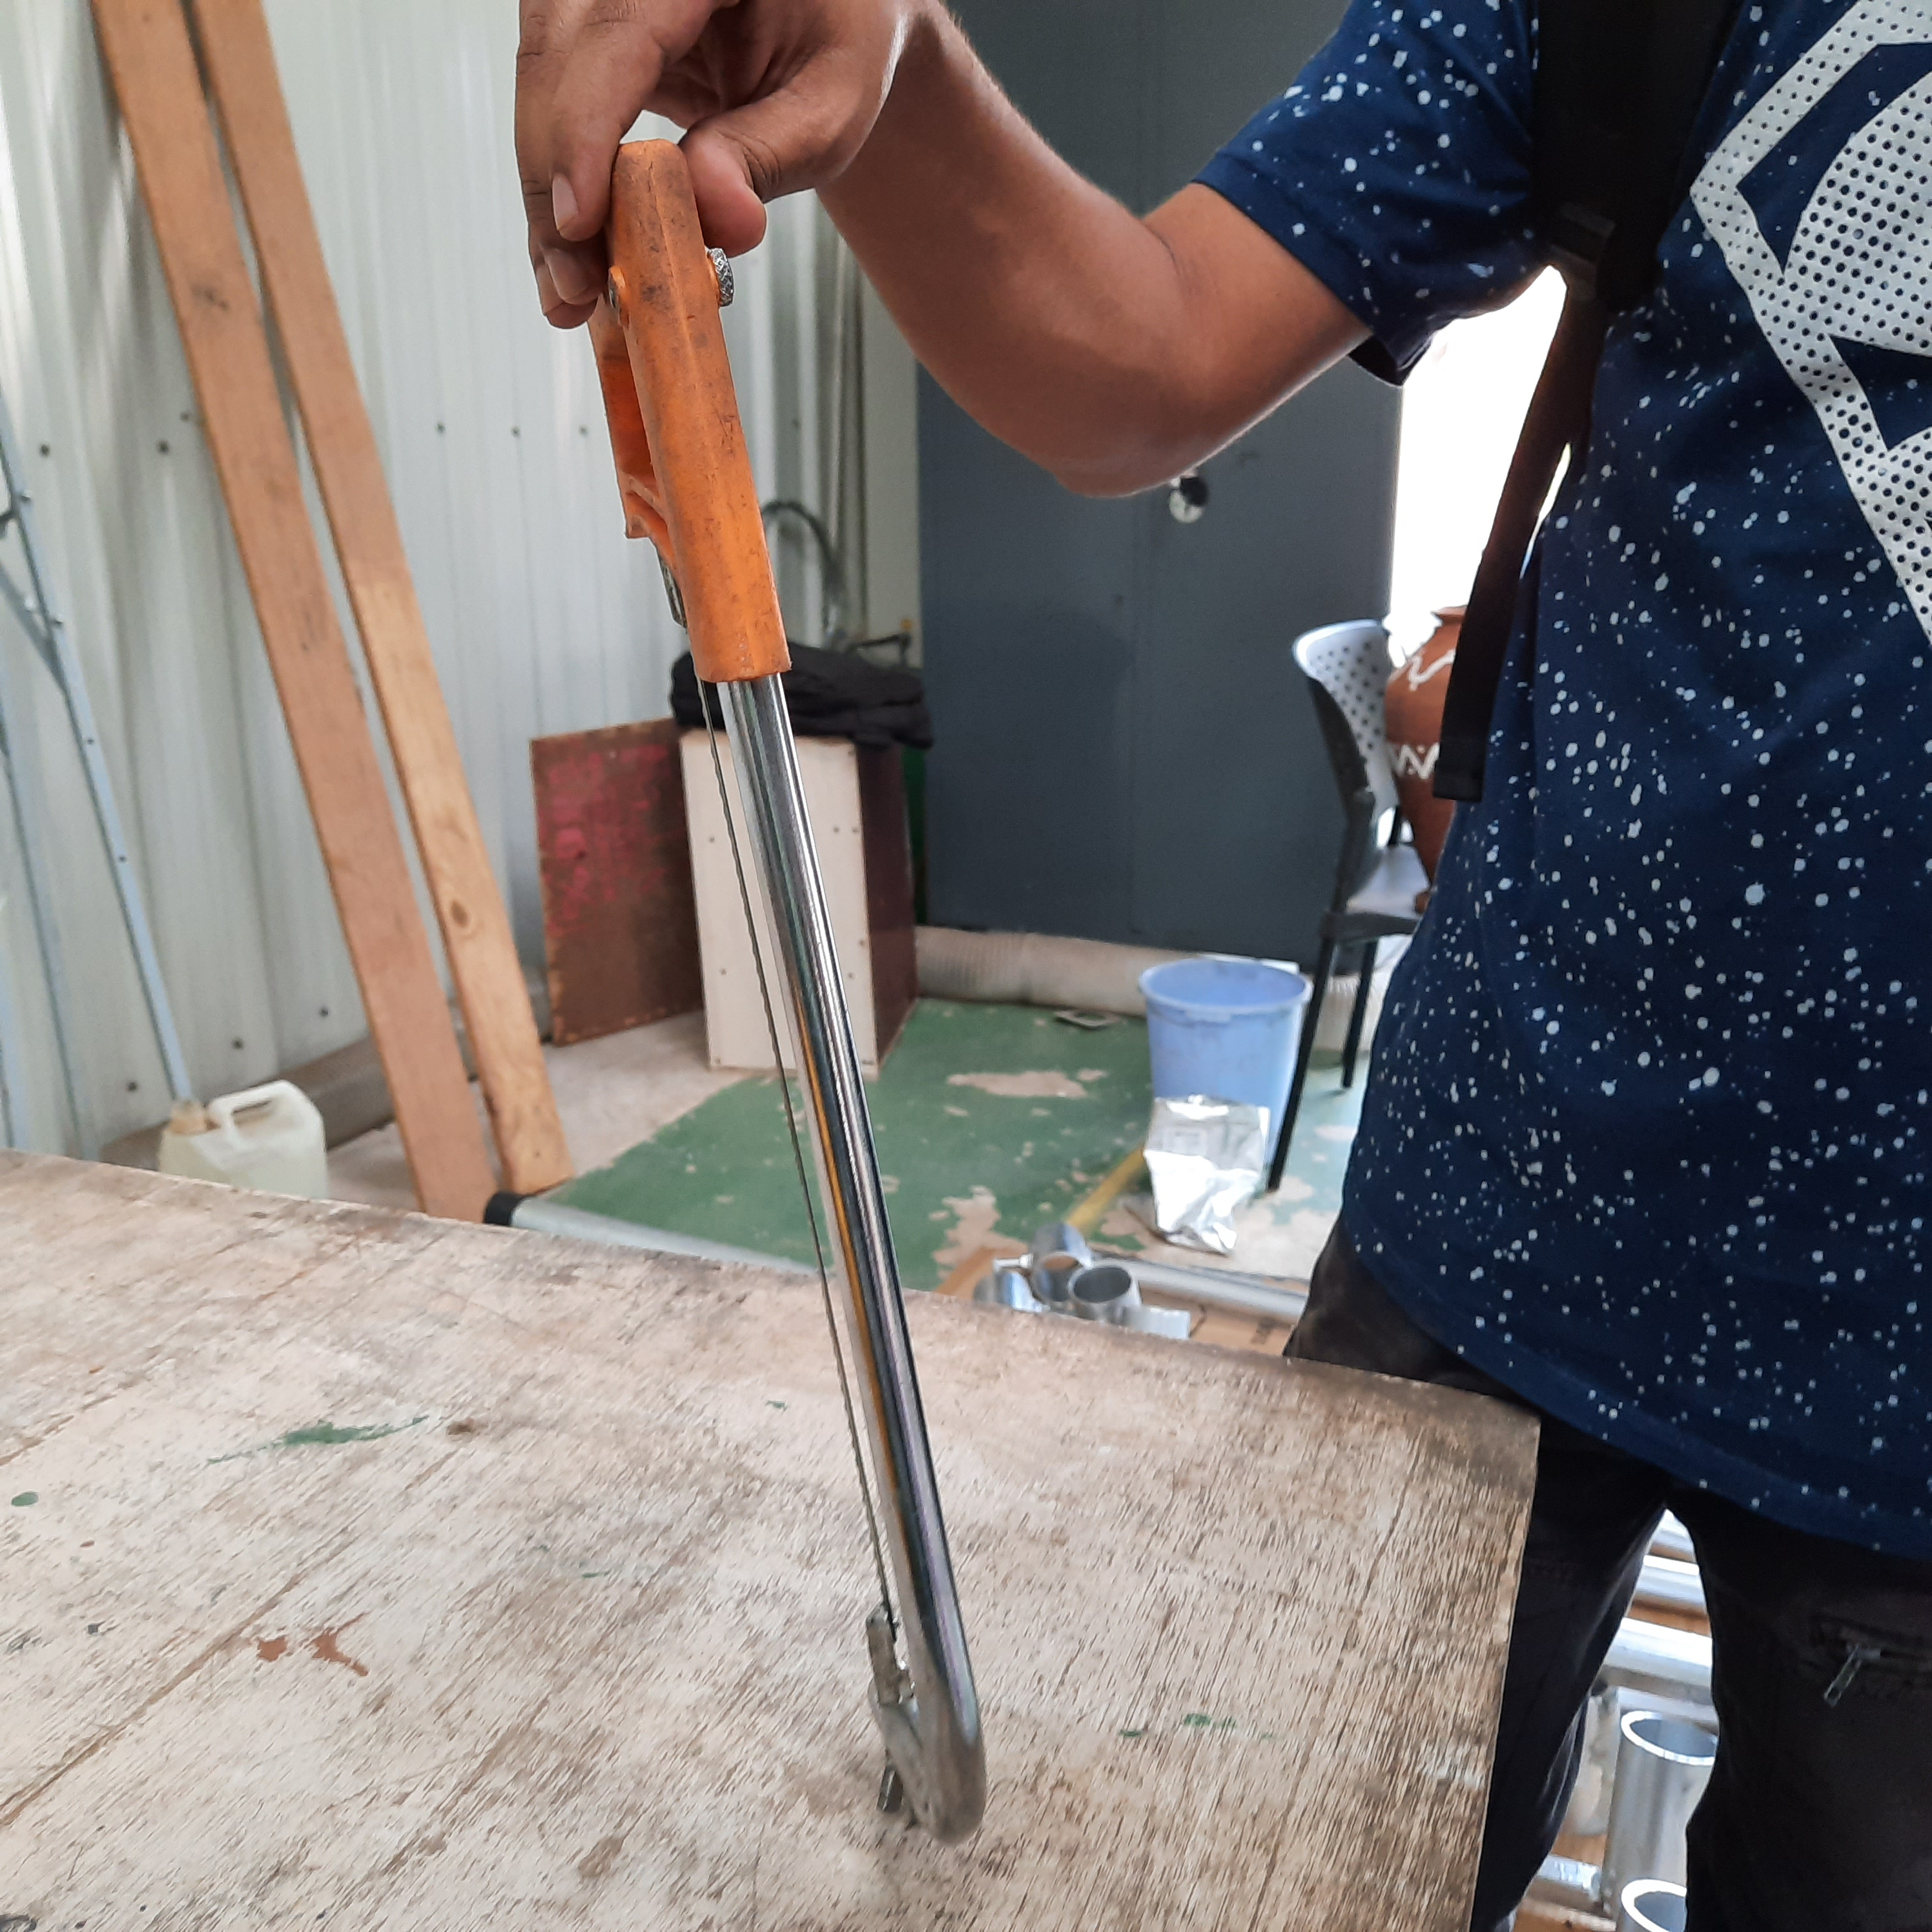Hexaframe: (485, 126, 1077, 1847)
